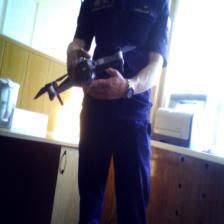drone: (34, 48, 142, 106)
